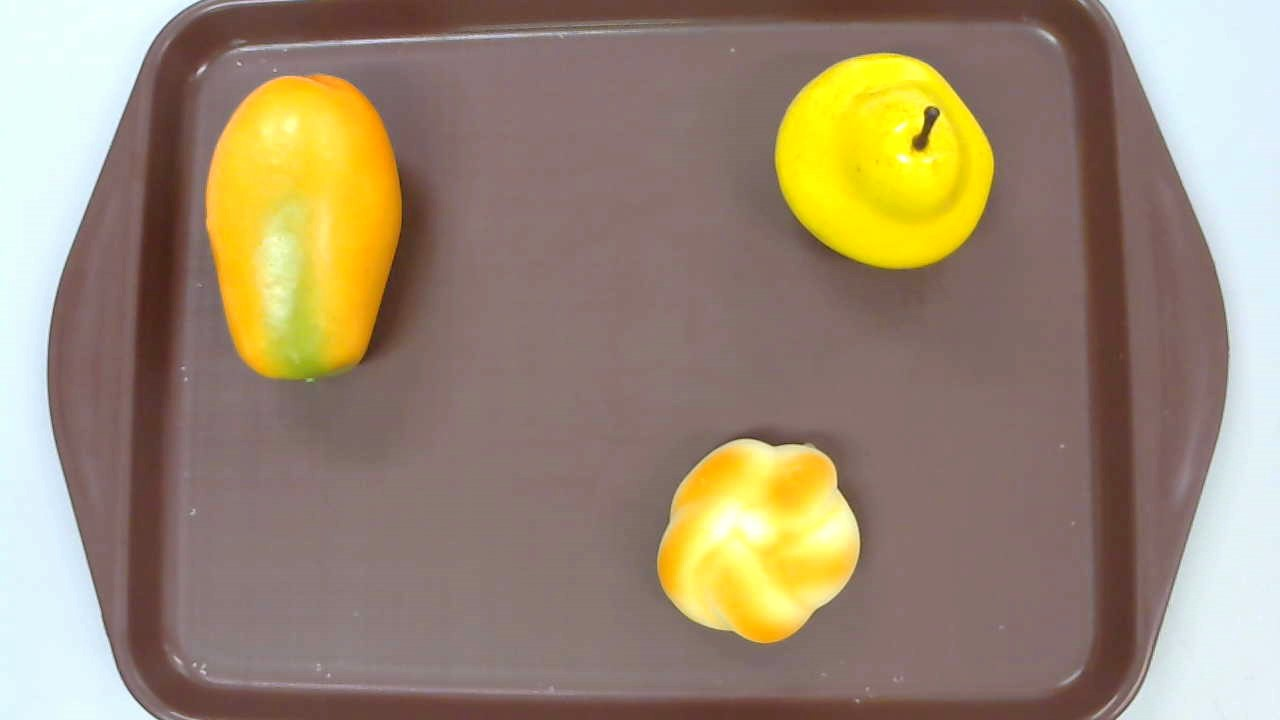papya: (205, 72, 402, 381)
twist bread: (654, 437, 861, 644)
yellow pear: (774, 53, 994, 272)
